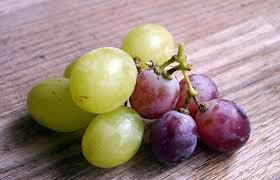Green grapes: (38, 40, 143, 169)
Red Grapes: (143, 70, 250, 164)
